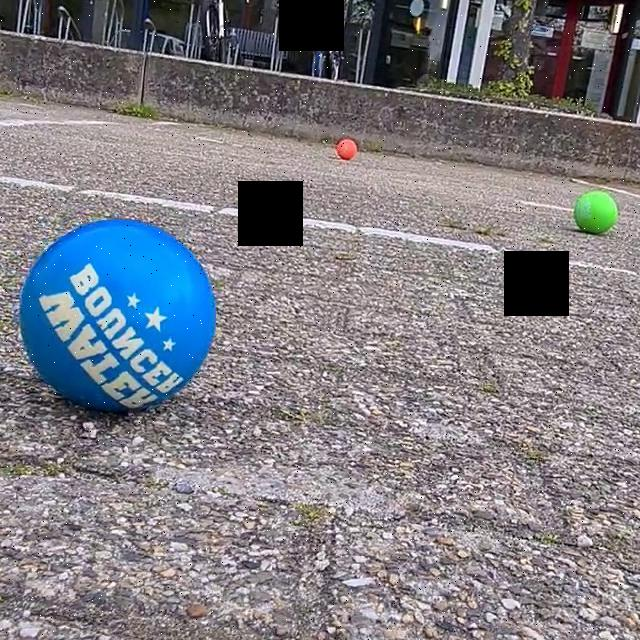ball: (570, 189, 623, 239), (334, 132, 358, 163)
